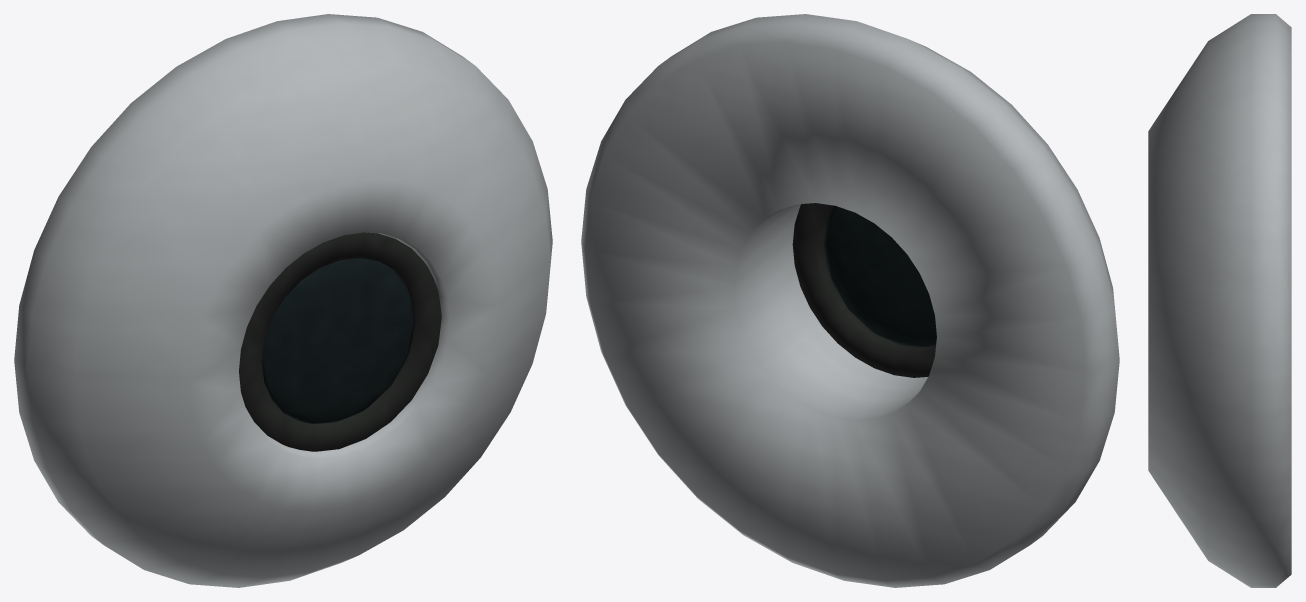
Rendered from me01_door_viewer_face_lod0.glb.
3 renders of one model, left to right at view 1: azimuth 30°, elevation 25°; view 2: azimuth 150°, elevation 25°; view 3: azimuth 270°, elevation 25°, orthographic. The views are drawn at different scales.
Visible parts, largest first — view 1: viewer_satin_bezel, viewer_opaque_glass_lens, viewer_lens_retainer; view 2: viewer_satin_bezel, viewer_opaque_glass_lens, viewer_lens_retainer; view 3: viewer_satin_bezel.
Part boxes in pixels (box(x1,y1,x2,y2)): viewer_satin_bezel: box(14, 14, 552, 587); viewer_opaque_glass_lens: box(261, 258, 414, 423); viewer_lens_retainer: box(239, 232, 441, 451); viewer_satin_bezel: box(581, 14, 1119, 587); viewer_opaque_glass_lens: box(824, 205, 936, 346); viewer_lens_retainer: box(792, 203, 935, 377); viewer_satin_bezel: box(1148, 14, 1291, 587).
Size of the model in its own units: 0.0254 by 0.0254 by 0.00635.
Materials: 3 (3 with a texture image).
